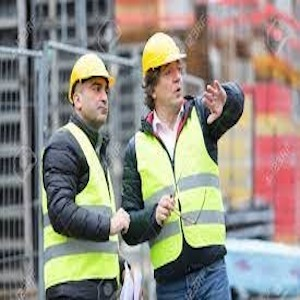safety: (142, 31, 188, 72), (68, 55, 116, 82)
vest: (136, 111, 228, 268), (42, 122, 121, 283)
